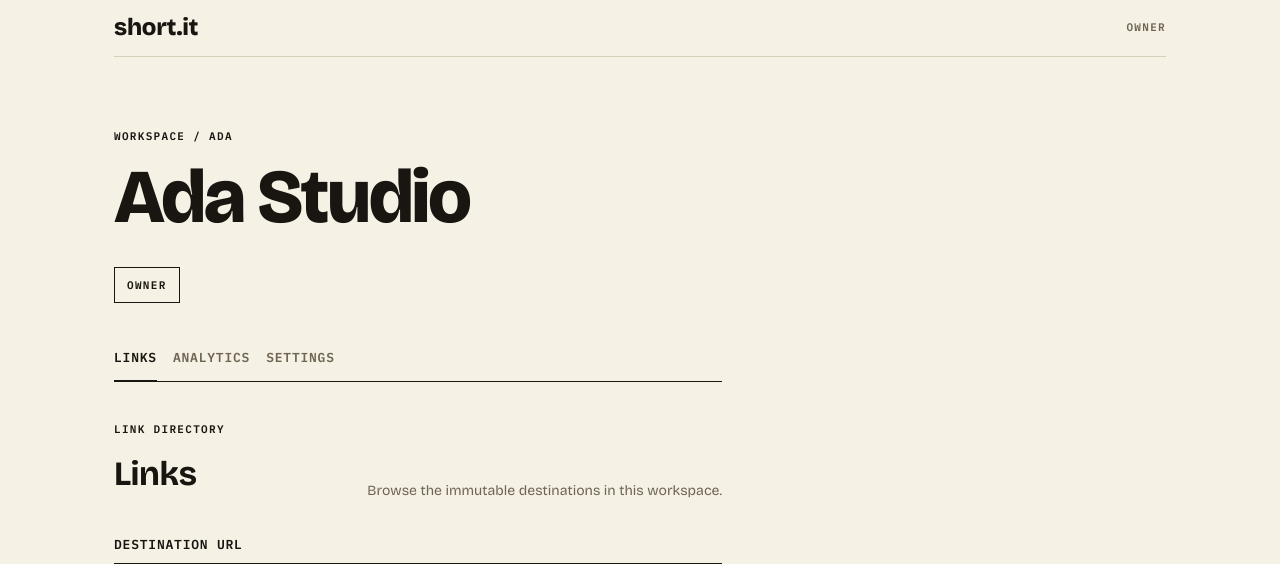
Test: App › retries invitation loading instead of presenting a failed list as empty
The width and height of the screenshot is (1280, 564).
Click the link "Settings". click: [300, 358]
box: [266, 349, 335, 366]
(page scrolled)
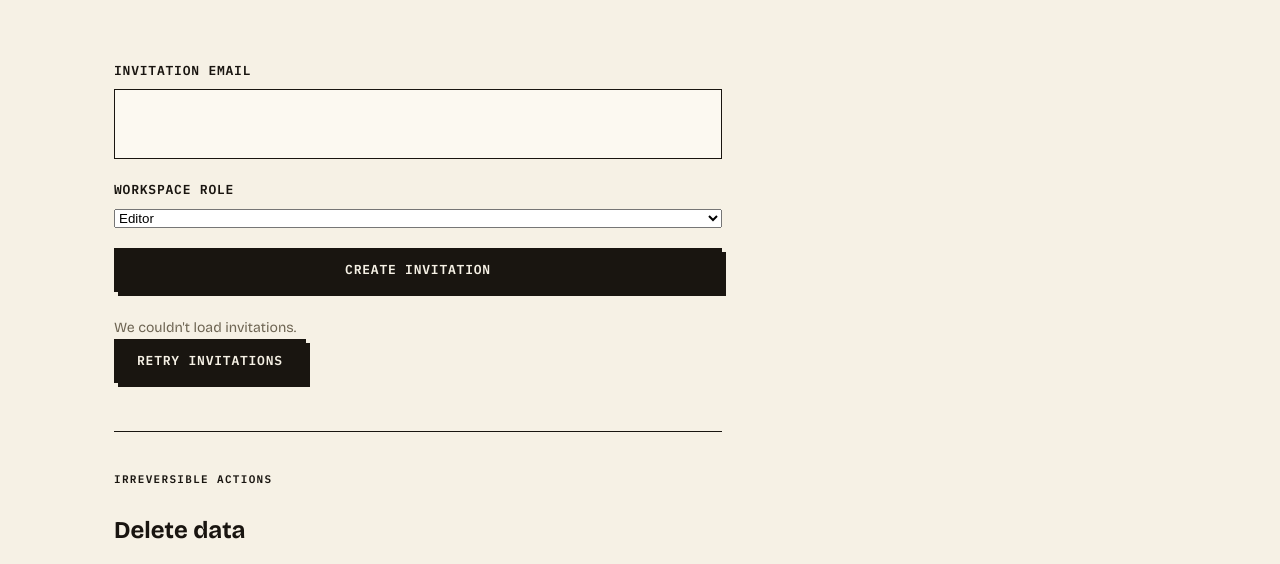
Expected: the text "No pending invitations." is not shown
Now the text "We couldn't load invitations." is shown, box [114, 319, 296, 336]
Click the button "Retry invitations". click: [210, 361]
box: [114, 339, 306, 383]
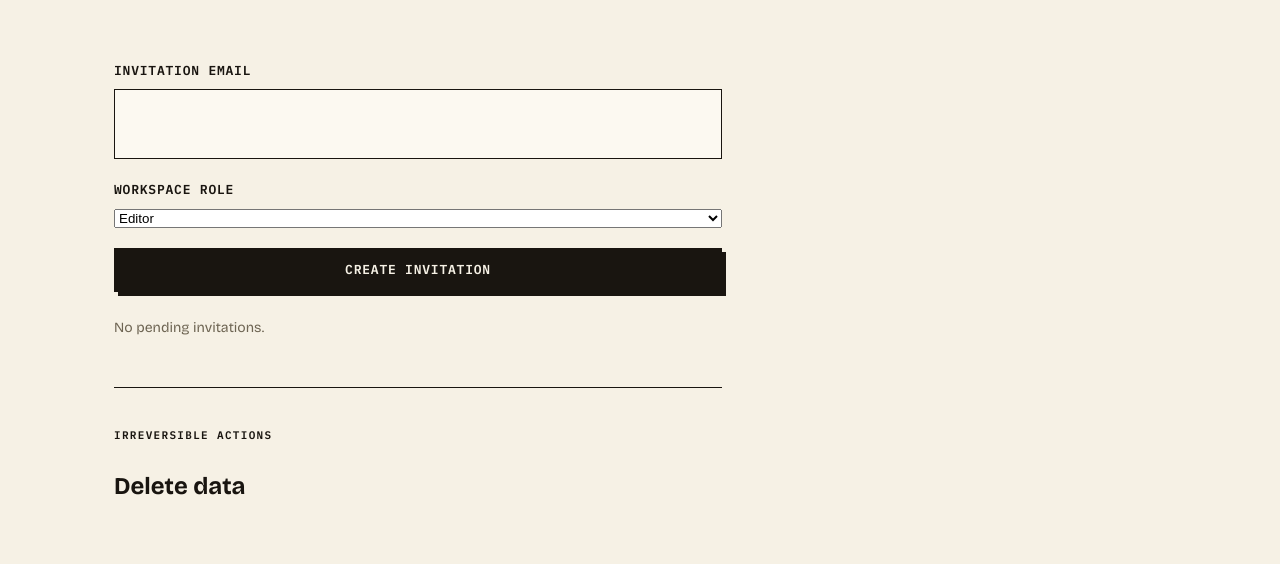
Now the text "No pending invitations." is shown, box [114, 319, 264, 336]
